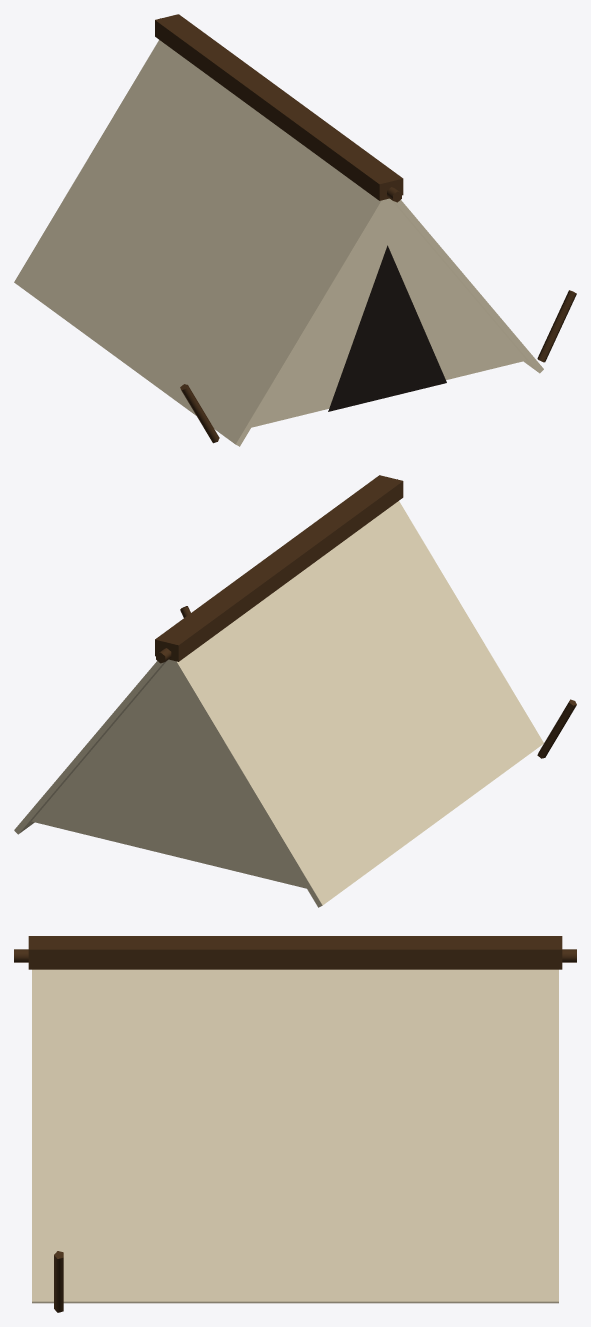
File: tent.glb
3 renders of one model, top to bottom at view 1: azimuth 30°, elevation 25°; view 2: azimuth 150°, elevation 25°; view 3: azimuth 270°, elevation 25°, orthographic. The views are drawn at different scales.
Parts seen in each view (by area): view 1: tent; view 2: tent; view 3: tent.
Boxes of the visible parts, x1=… form: tent: x1=14, y1=14, x2=576, y2=446; tent: x1=14, y1=475, x2=576, y2=907; tent: x1=14, y1=936, x2=576, y2=1312.
Size of the model in its own units: 2.99 by 1.66 by 3.1.
